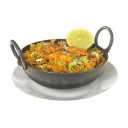briyani: (24, 46, 100, 70)
